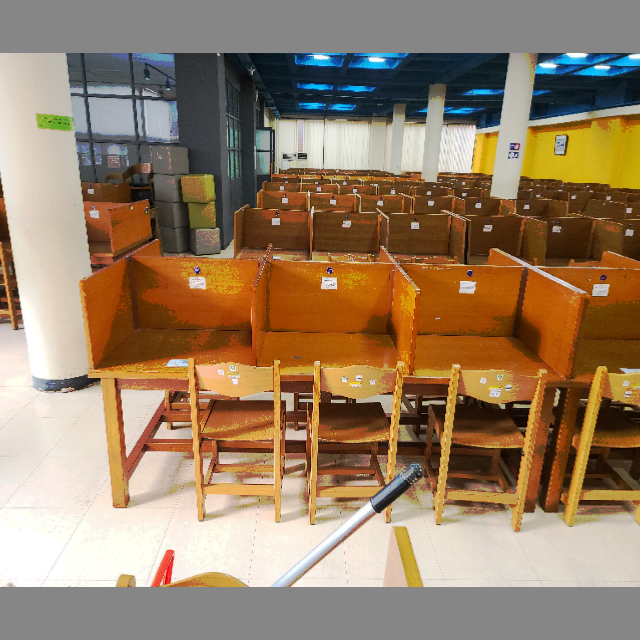empty: (81, 249, 252, 443), (257, 250, 417, 445), (425, 257, 578, 455)
